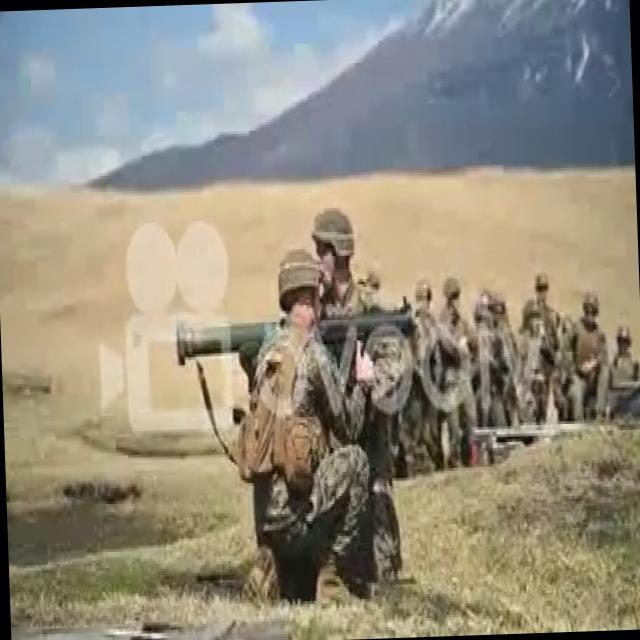rocket: (175, 304, 416, 362)
